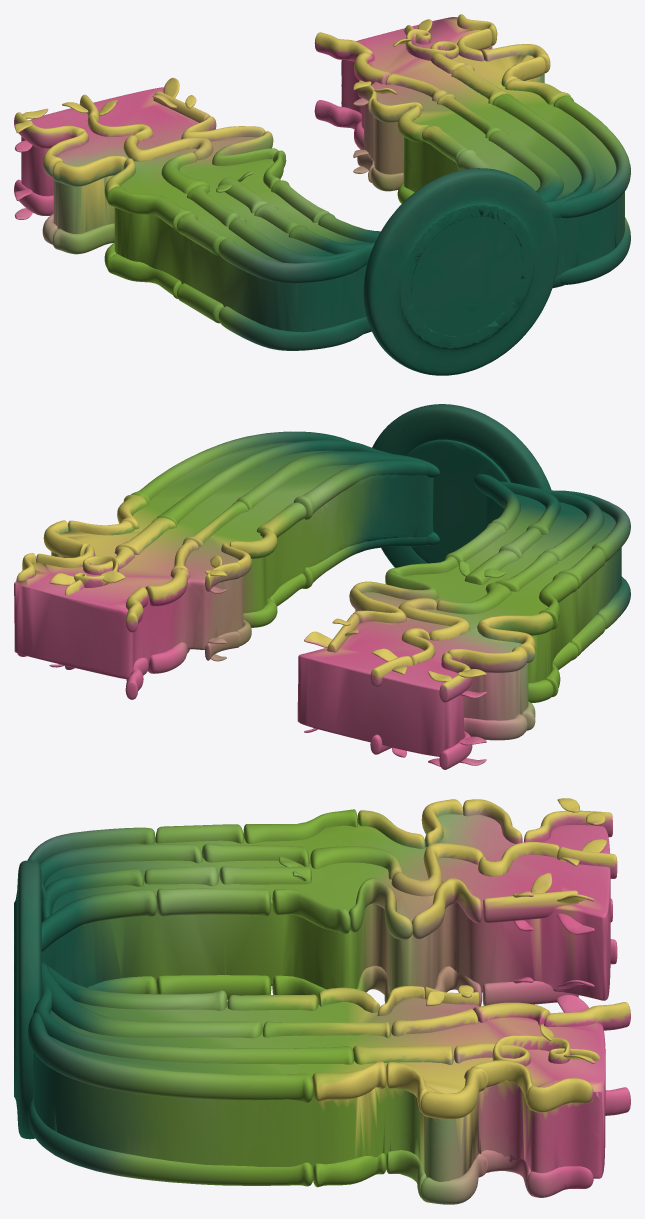
3 renders of one model, top to bottom at view 1: azimuth 30°, elevation 25°; view 2: azimuth 150°, elevation 25°; view 3: azimuth 270°, elevation 25°, orthographic. The views are drawn at different scales.
Parts seen in each view (by area): view 1: LOD 4_11715679123741618527_7772d8143698c4b469892684d4d44774; view 2: LOD 4_11715679123741618527_7772d8143698c4b469892684d4d44774; view 3: LOD 4_11715679123741618527_7772d8143698c4b469892684d4d44774.
Part boxes in pixels (<box>): LOD 4_11715679123741618527_7772d8143698c4b469892684d4d44774: <box>14,14,630,375</box>; LOD 4_11715679123741618527_7772d8143698c4b469892684d4d44774: <box>14,404,630,769</box>; LOD 4_11715679123741618527_7772d8143698c4b469892684d4d44774: <box>14,798,630,1204</box>.
Size of the model in its own units: 14.65 by 5.71 by 12.63.
